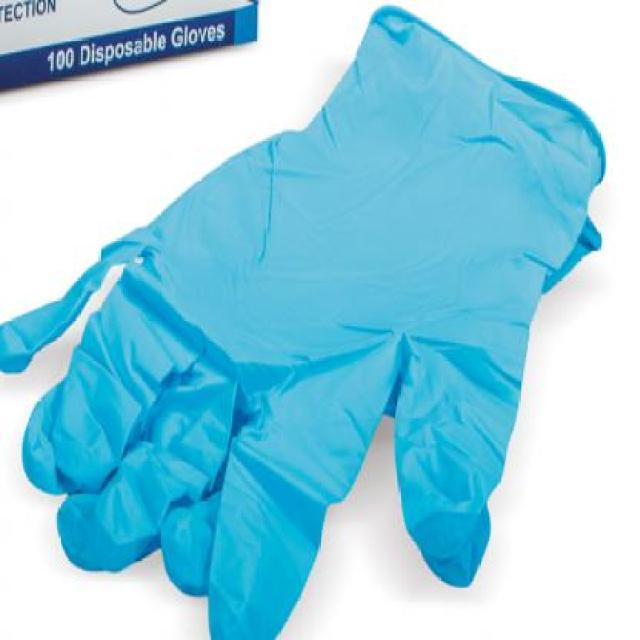glove_hand: (0, 15, 634, 638)
